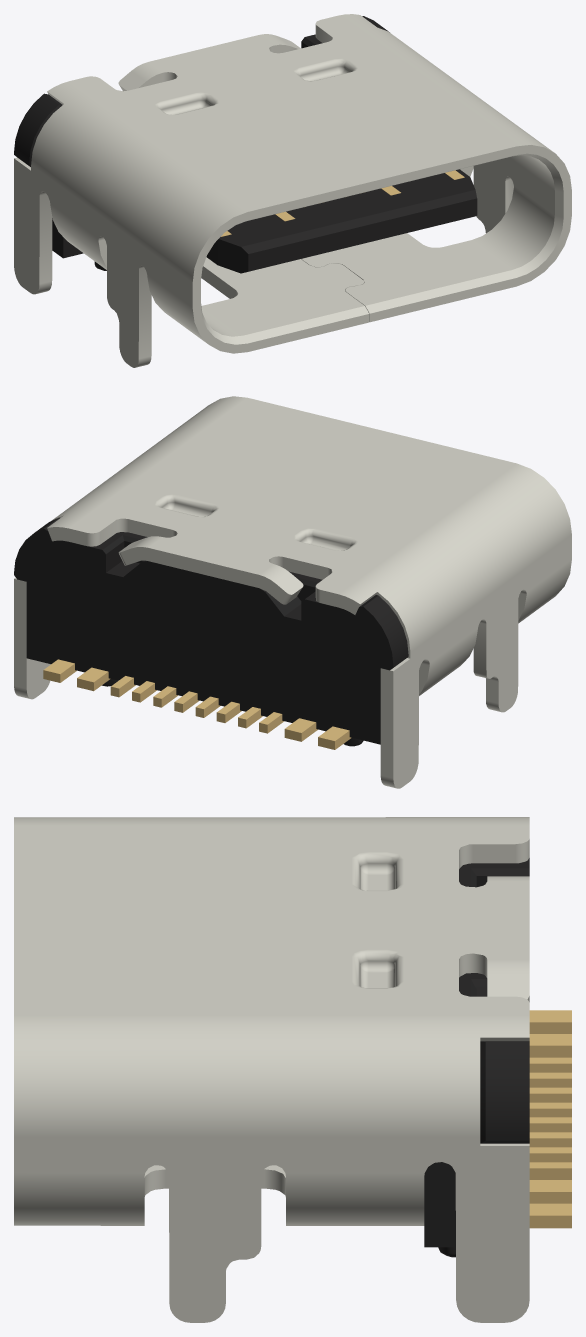
The model's file is usb_c_hro_31m12.glb.
3 views of the same model, one above another, from view 1: azimuth 30°, elevation 25°; view 2: azimuth 150°, elevation 25°; view 3: azimuth 270°, elevation 25° (orthographic). The views are drawn at different scales.
Visible parts, largest first — view 1: Frame:1, Mold:1; view 2: Frame:1, Mold:1, ConPins:1; view 3: Frame:1, Mold:1, ConPins:1.
Part boxes in pixels (bbox=[...]): Frame:1: bbox=[14, 14, 571, 367]; Mold:1: bbox=[14, 16, 477, 273]; Frame:1: bbox=[14, 396, 571, 788]; Mold:1: bbox=[14, 517, 408, 746]; ConPins:1: bbox=[43, 659, 351, 749]; Frame:1: bbox=[14, 817, 529, 1322]; Mold:1: bbox=[424, 858, 529, 1257]; ConPins:1: bbox=[529, 1010, 571, 1228].
Bounding box in the file's own units: 0.00895 × 0.0042 × 0.0079.
